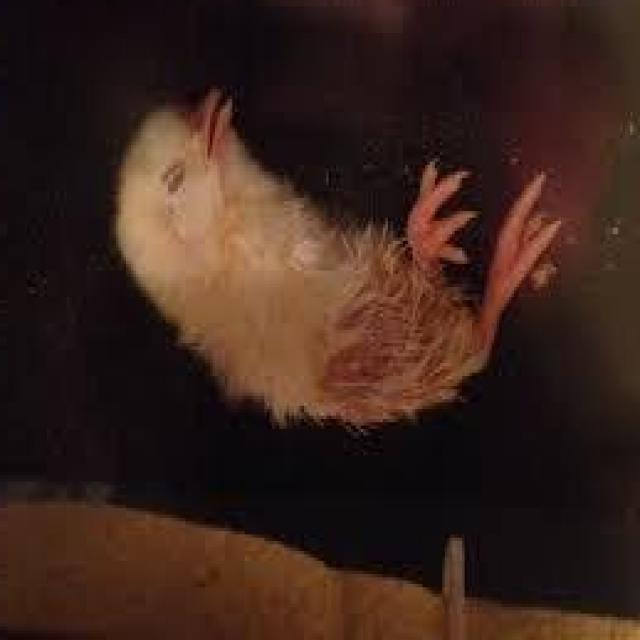Unhealthy: (88, 65, 572, 444)
